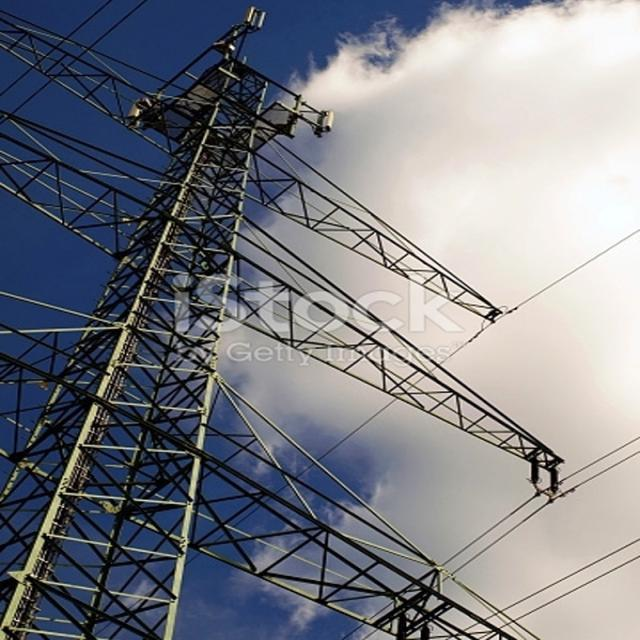non-critical vegetation: (6, 6, 570, 636)
